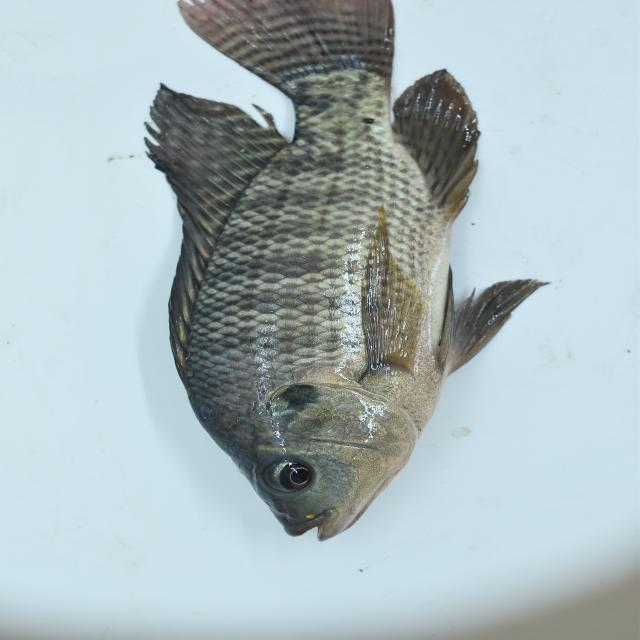Healthy Fish: (132, 0, 555, 545)
